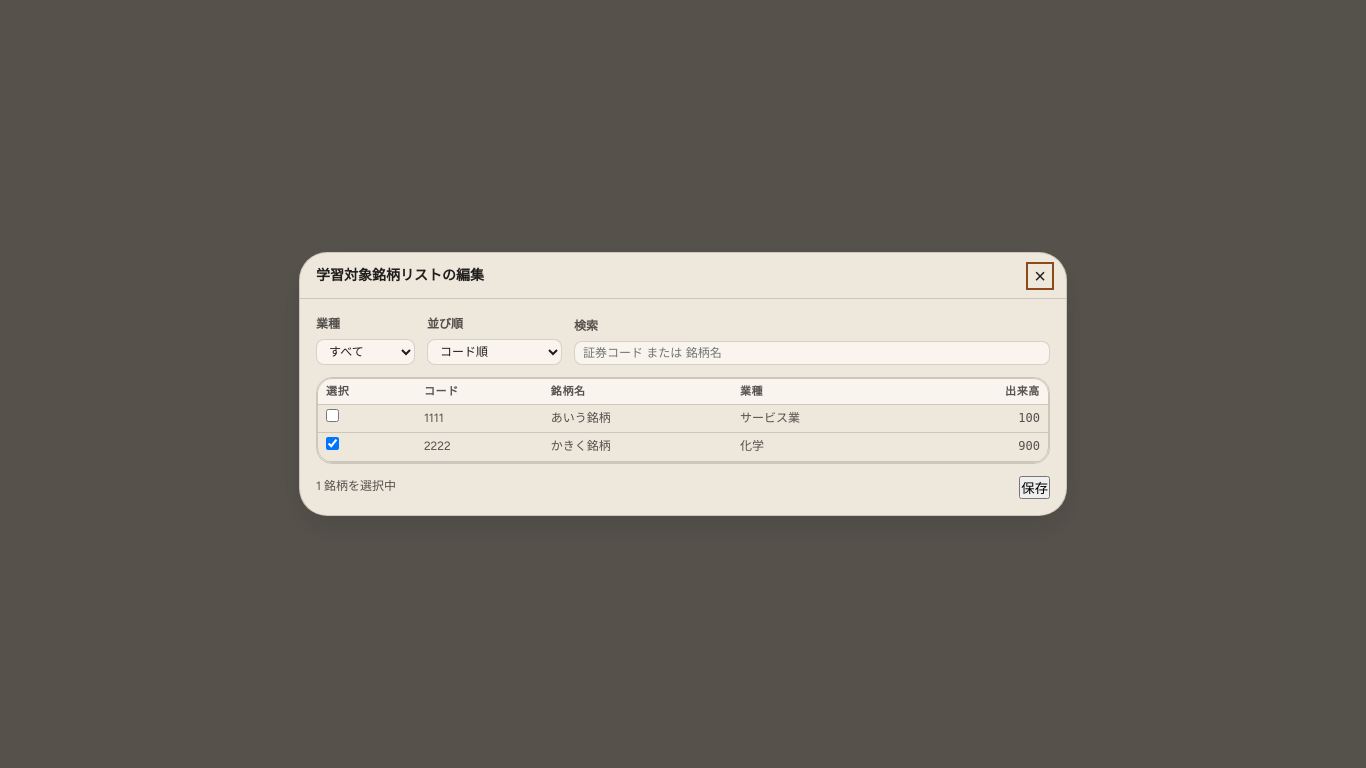
Test case: TickerPickerDialog › チェックを切り替えると選択数が変わる
Click the checkbox named "1111" at (332, 416), box [326, 409, 339, 422]
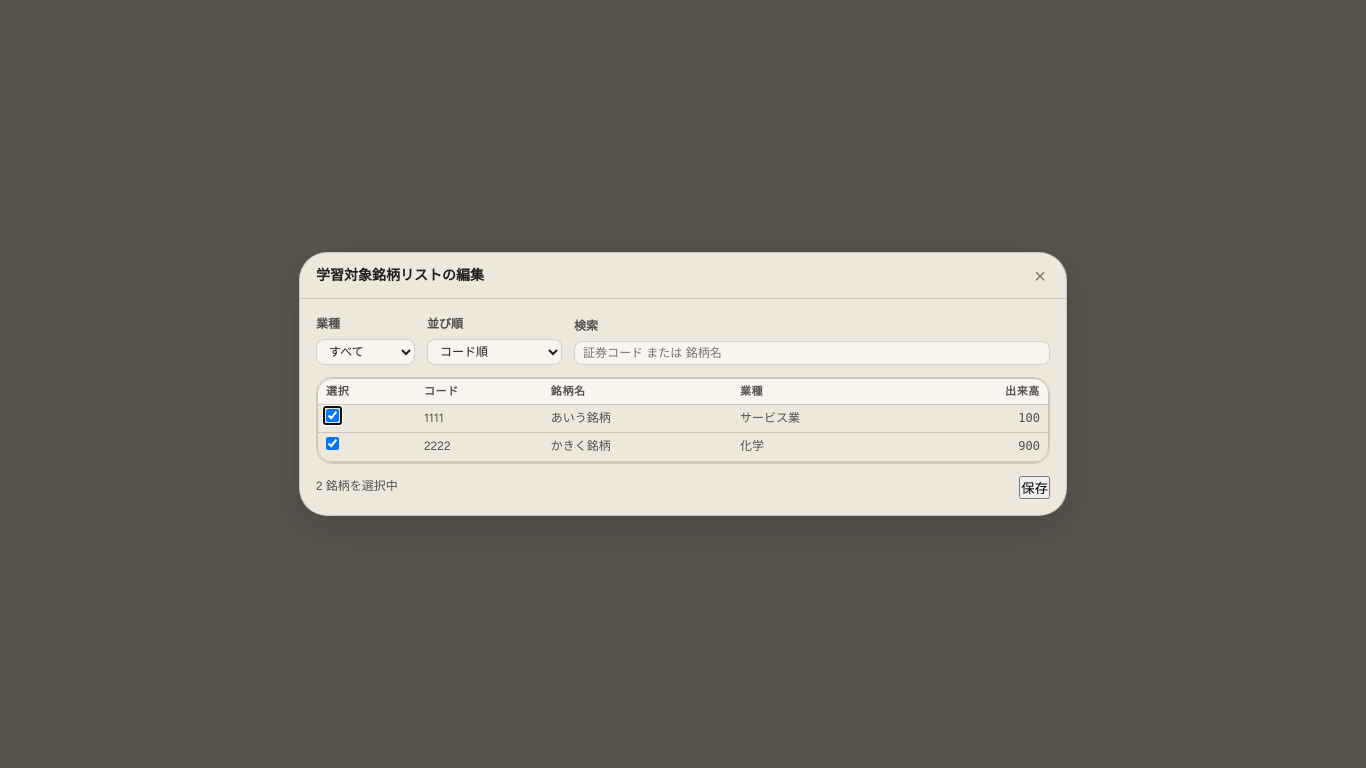
Expected: the text "2 銘柄を選択中" is shown, [316, 478, 398, 497]
